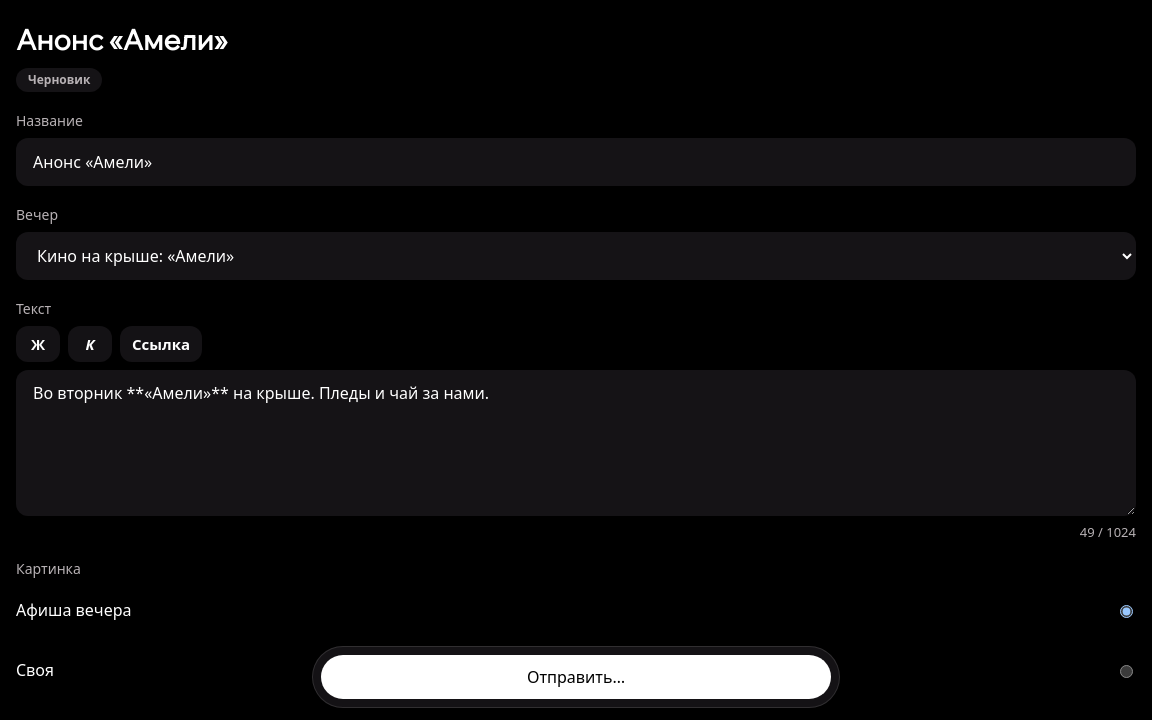
Scenario: SendFlow › leaves a draft when the owner says no to the morning
Click the button "Отправить…" at (576, 677), box [321,655,831,699]
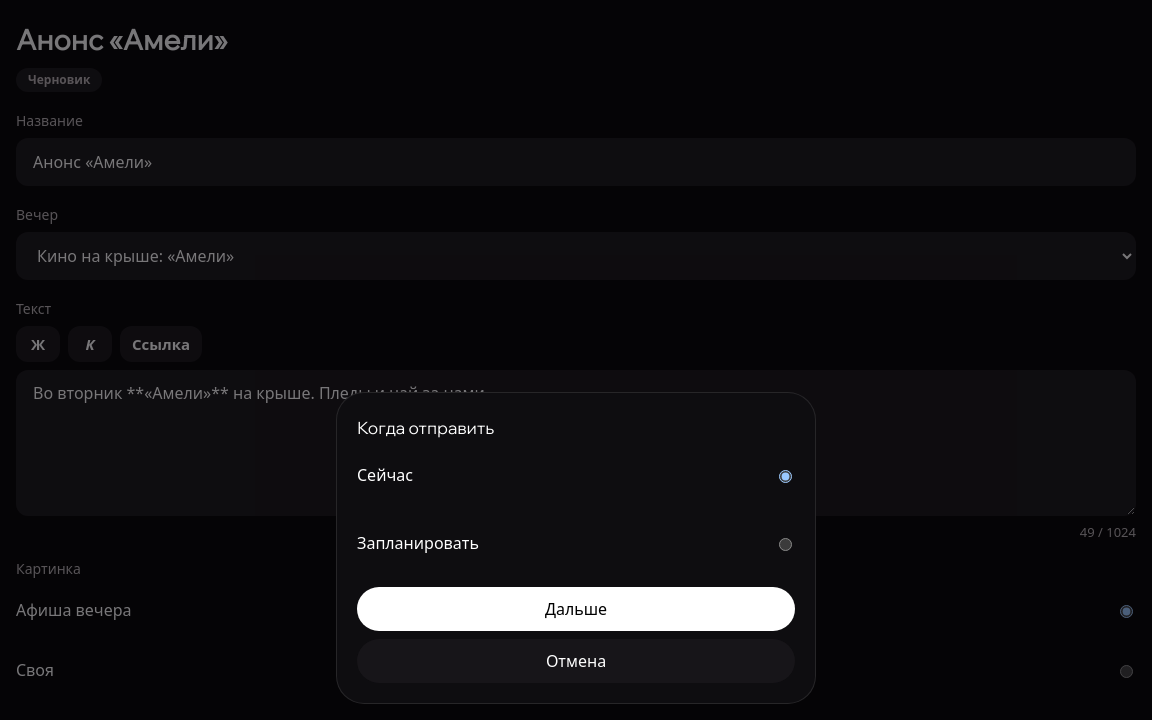
Click the button "Дальше" at (576, 609), box [357,587,795,631]
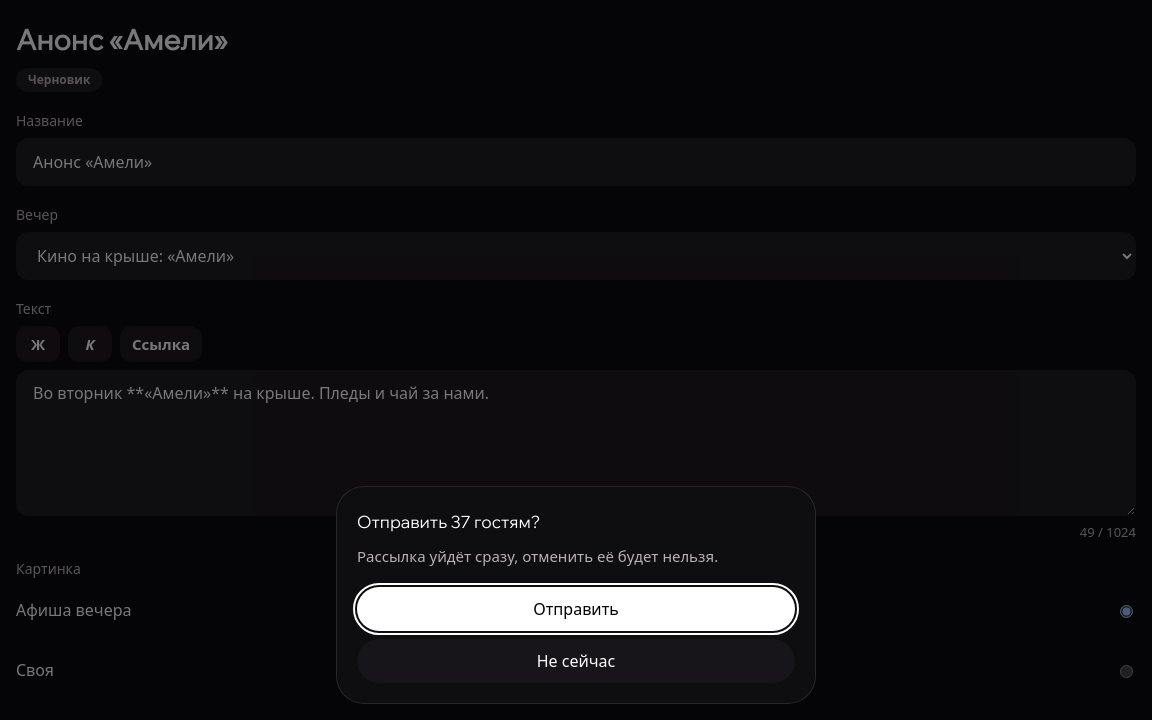
Click the button "Отправить" at (576, 609), box [357,587,795,631]
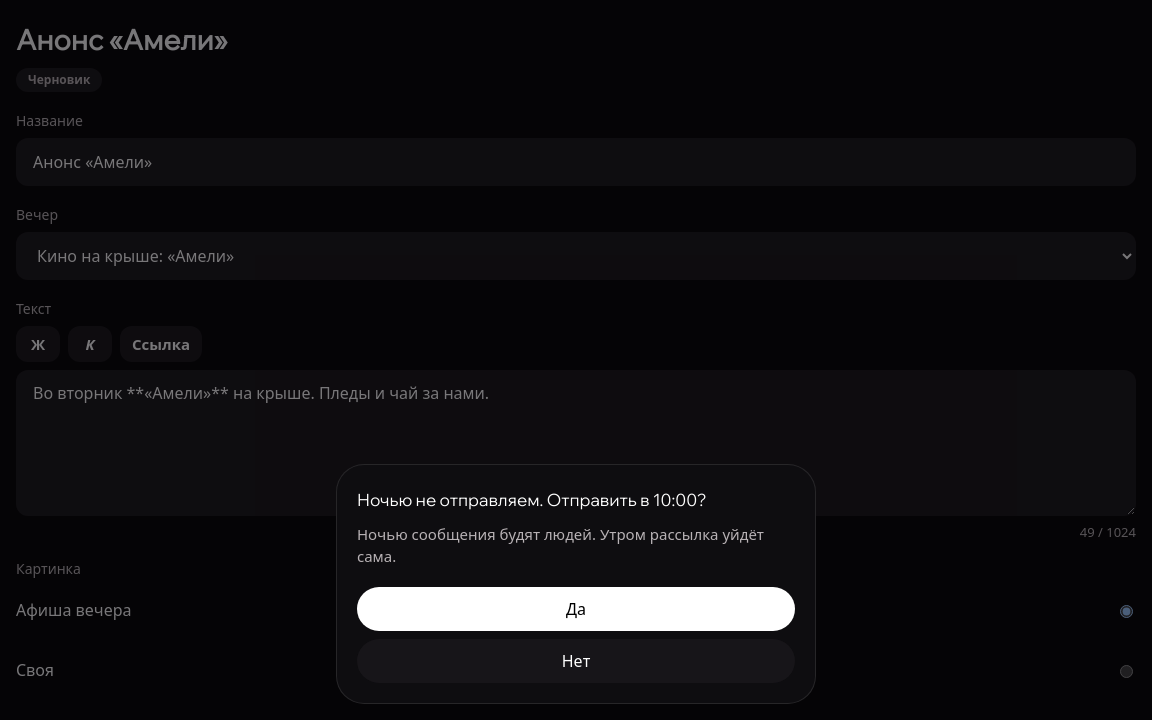
Click the button "Нет" at (576, 661), box [357,639,795,683]
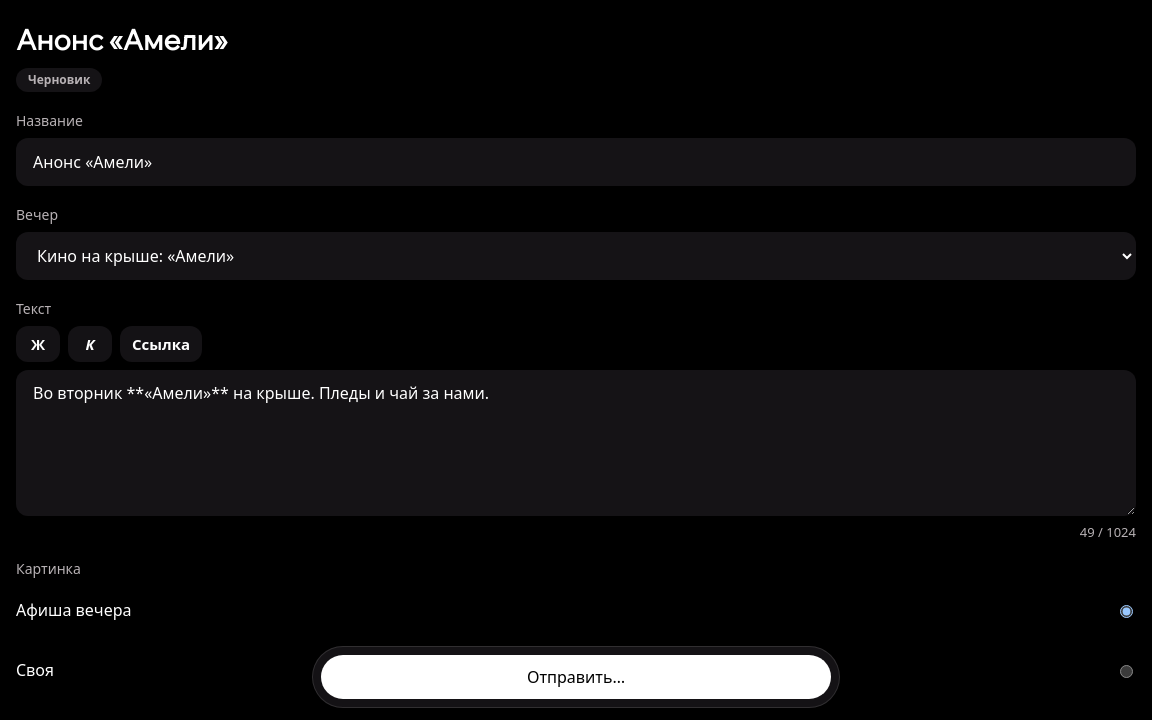
Expected: the dialog is gone
